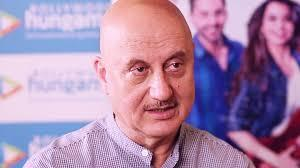normalMouth: (141, 101, 182, 122)
